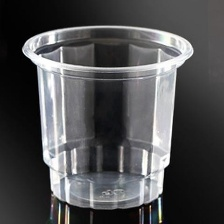glass: (21, 20, 199, 209)
